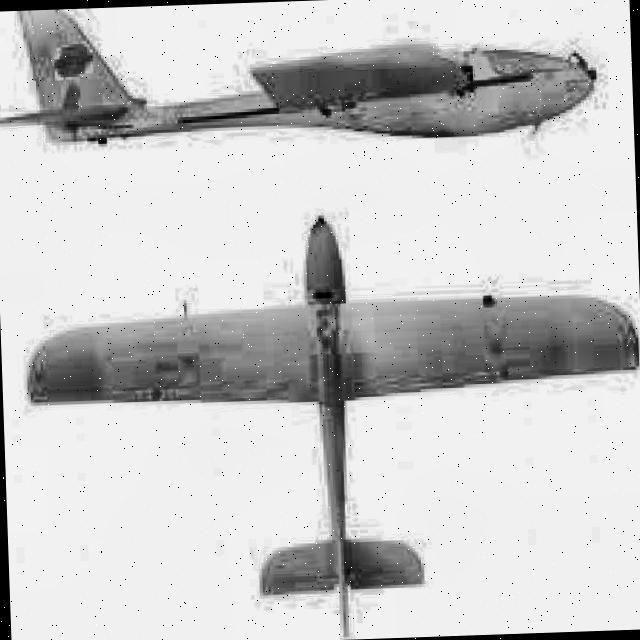iha: (32, 198, 640, 640), (0, 0, 596, 122)
